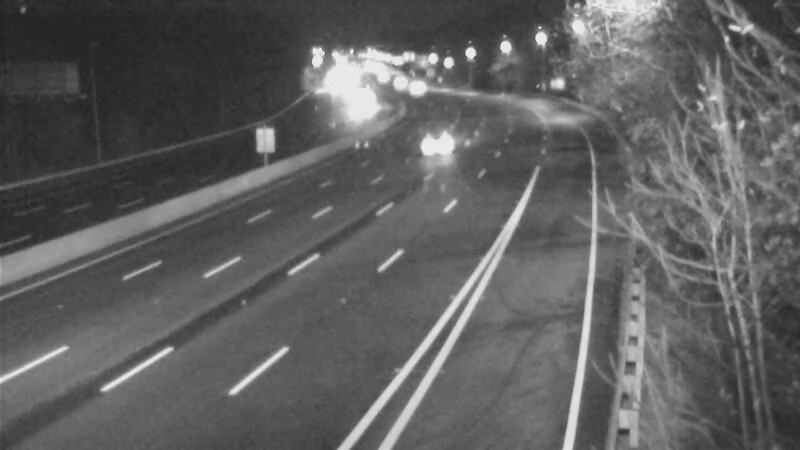vehicle: (415, 115, 465, 165)
